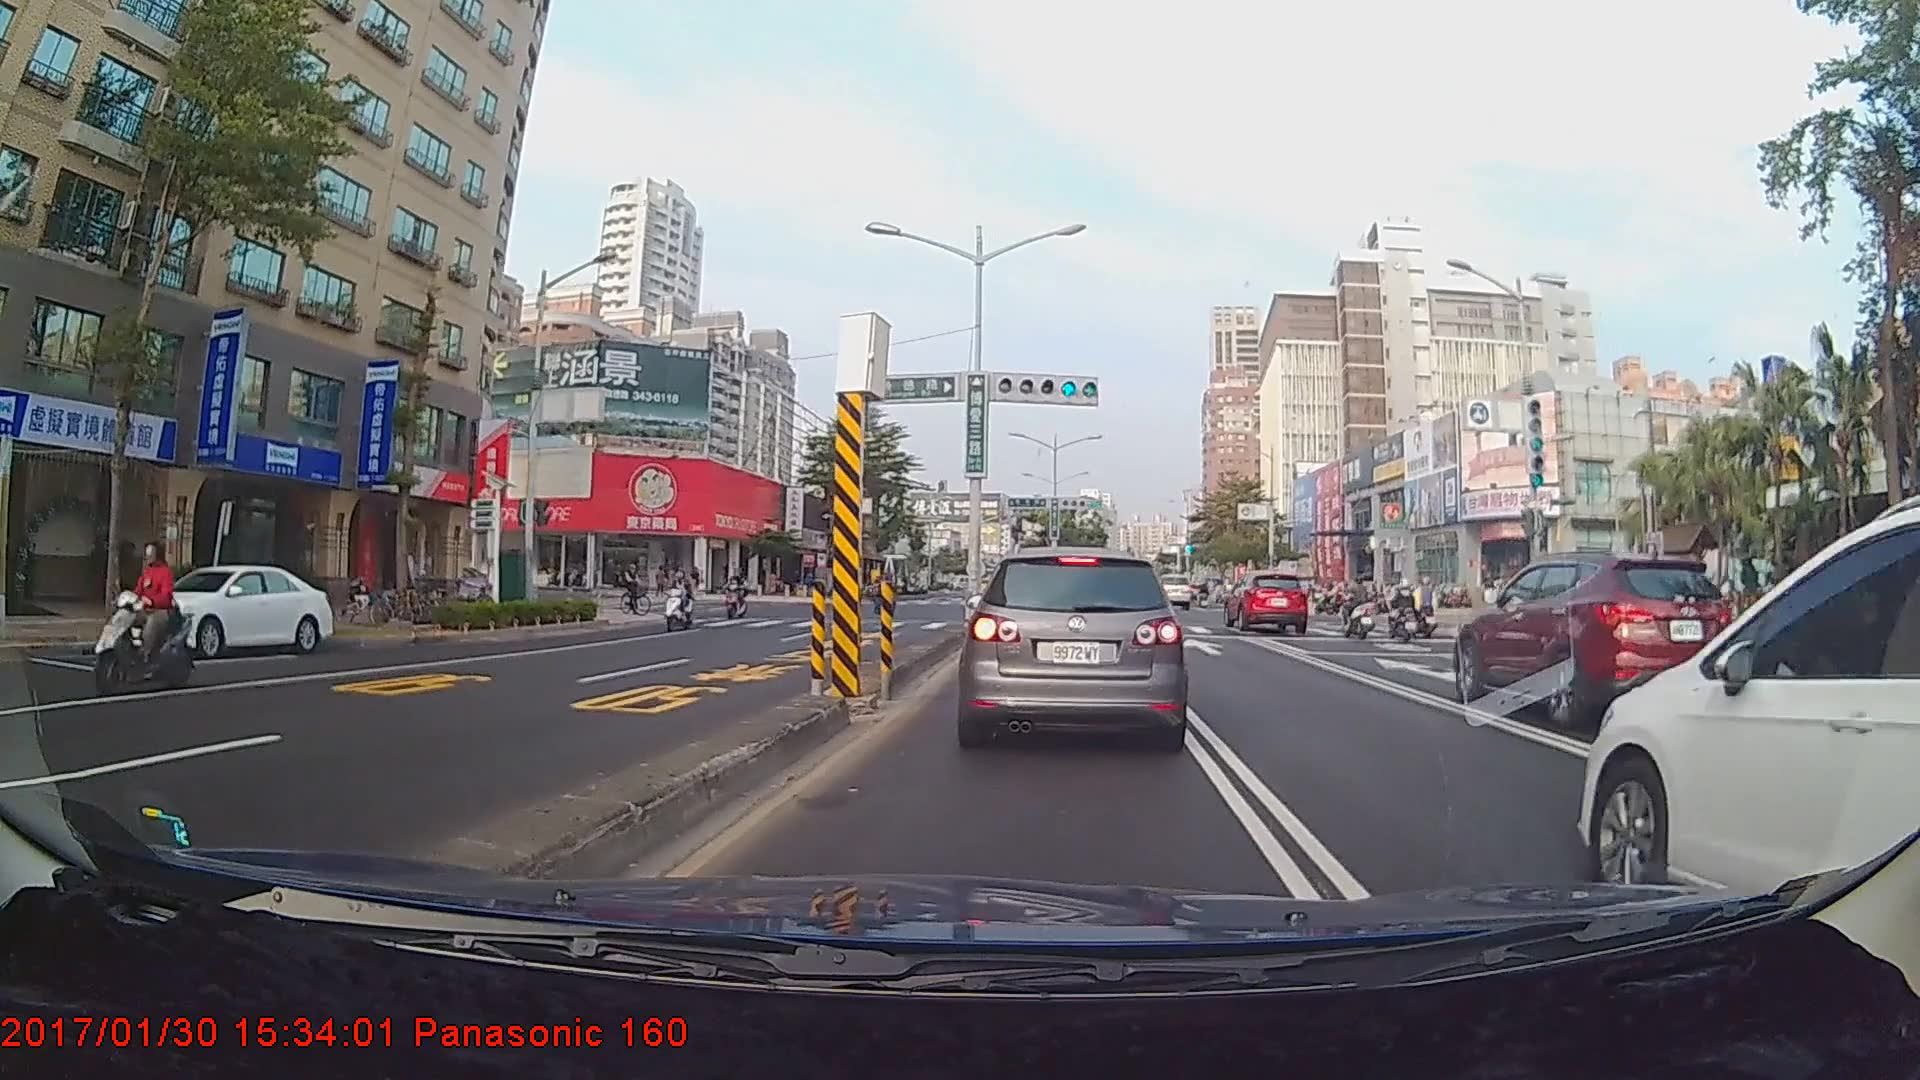rider: (89, 539, 199, 696), (1331, 575, 1385, 643), (1380, 577, 1429, 642), (662, 567, 701, 637), (619, 559, 658, 623), (728, 568, 757, 623)
vehicle: (1576, 511, 1920, 885), (1453, 550, 1745, 723), (962, 544, 1187, 746), (121, 561, 330, 658), (1225, 571, 1310, 633), (1155, 571, 1192, 609)
